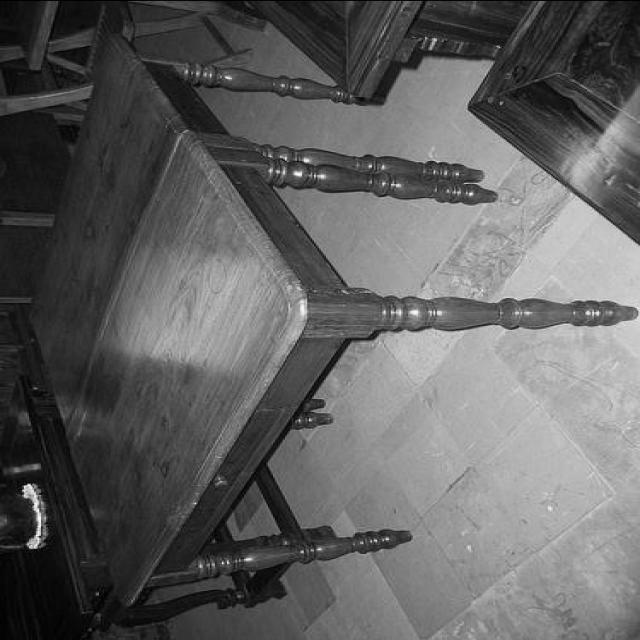table: (66, 138, 632, 602), (27, 24, 476, 447)
